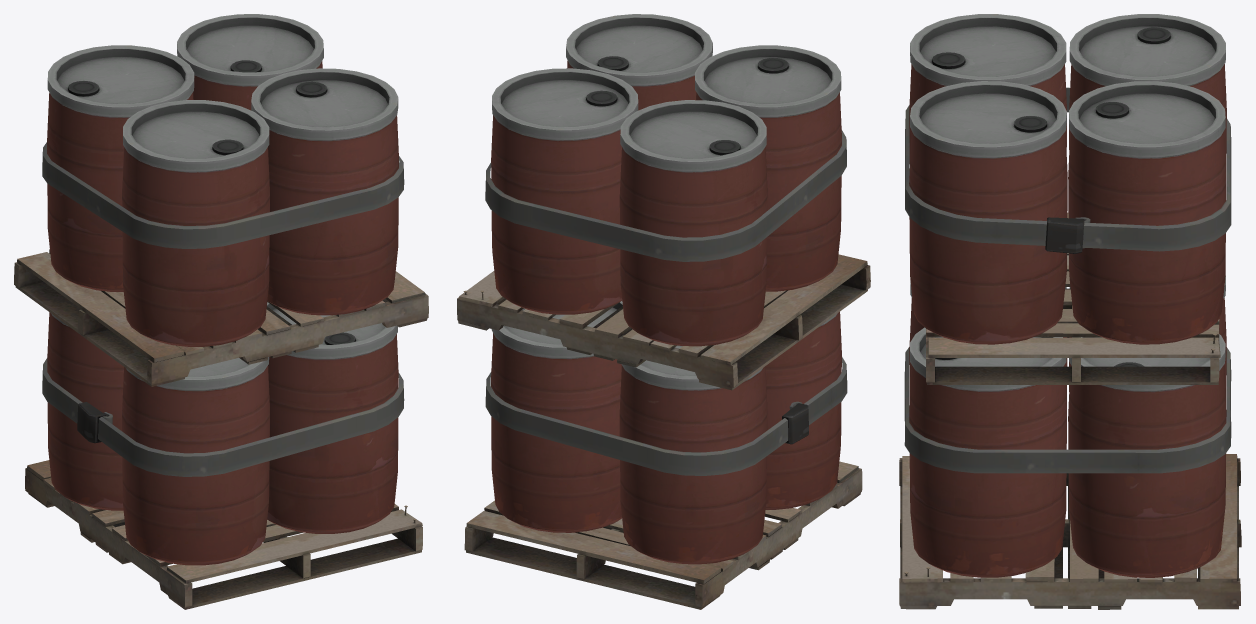
The model's file is barrel_cluster01a.glb.
3 renders of one model, left to right at view 1: azimuth 30°, elevation 25°; view 2: azimuth 150°, elevation 25°; view 3: azimuth 270°, elevation 25°, orthographic. The views are drawn at different scales.
Visible parts, largest first — view 1: barrel_cluster01a; view 2: barrel_cluster01a; view 3: barrel_cluster01a.
Boxes of the visible parts, <box> form: barrel_cluster01a: <box>14,14,428,609</box>; barrel_cluster01a: <box>457,14,870,609</box>; barrel_cluster01a: <box>899,14,1241,609</box>.
Bounding box in the file's own units: 1.43 × 2.14 × 1.43.
2 materials, 2 textured.
